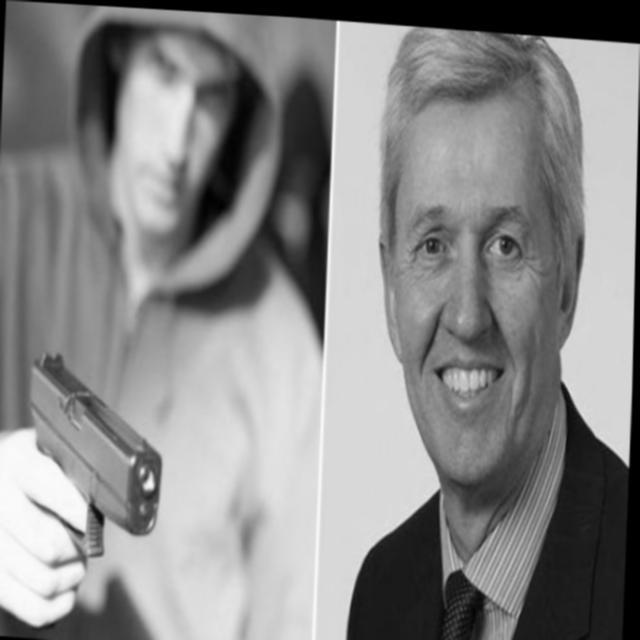weapon: (26, 330, 169, 563)
